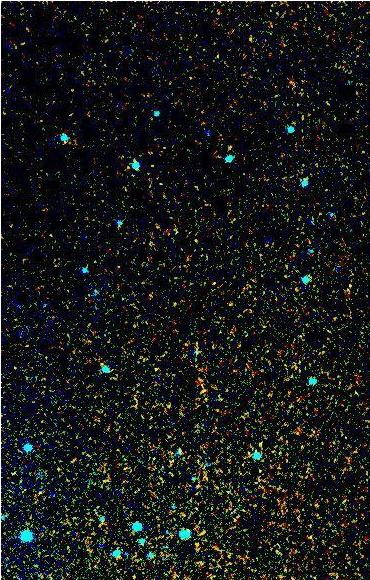star: (214, 131, 244, 161)
